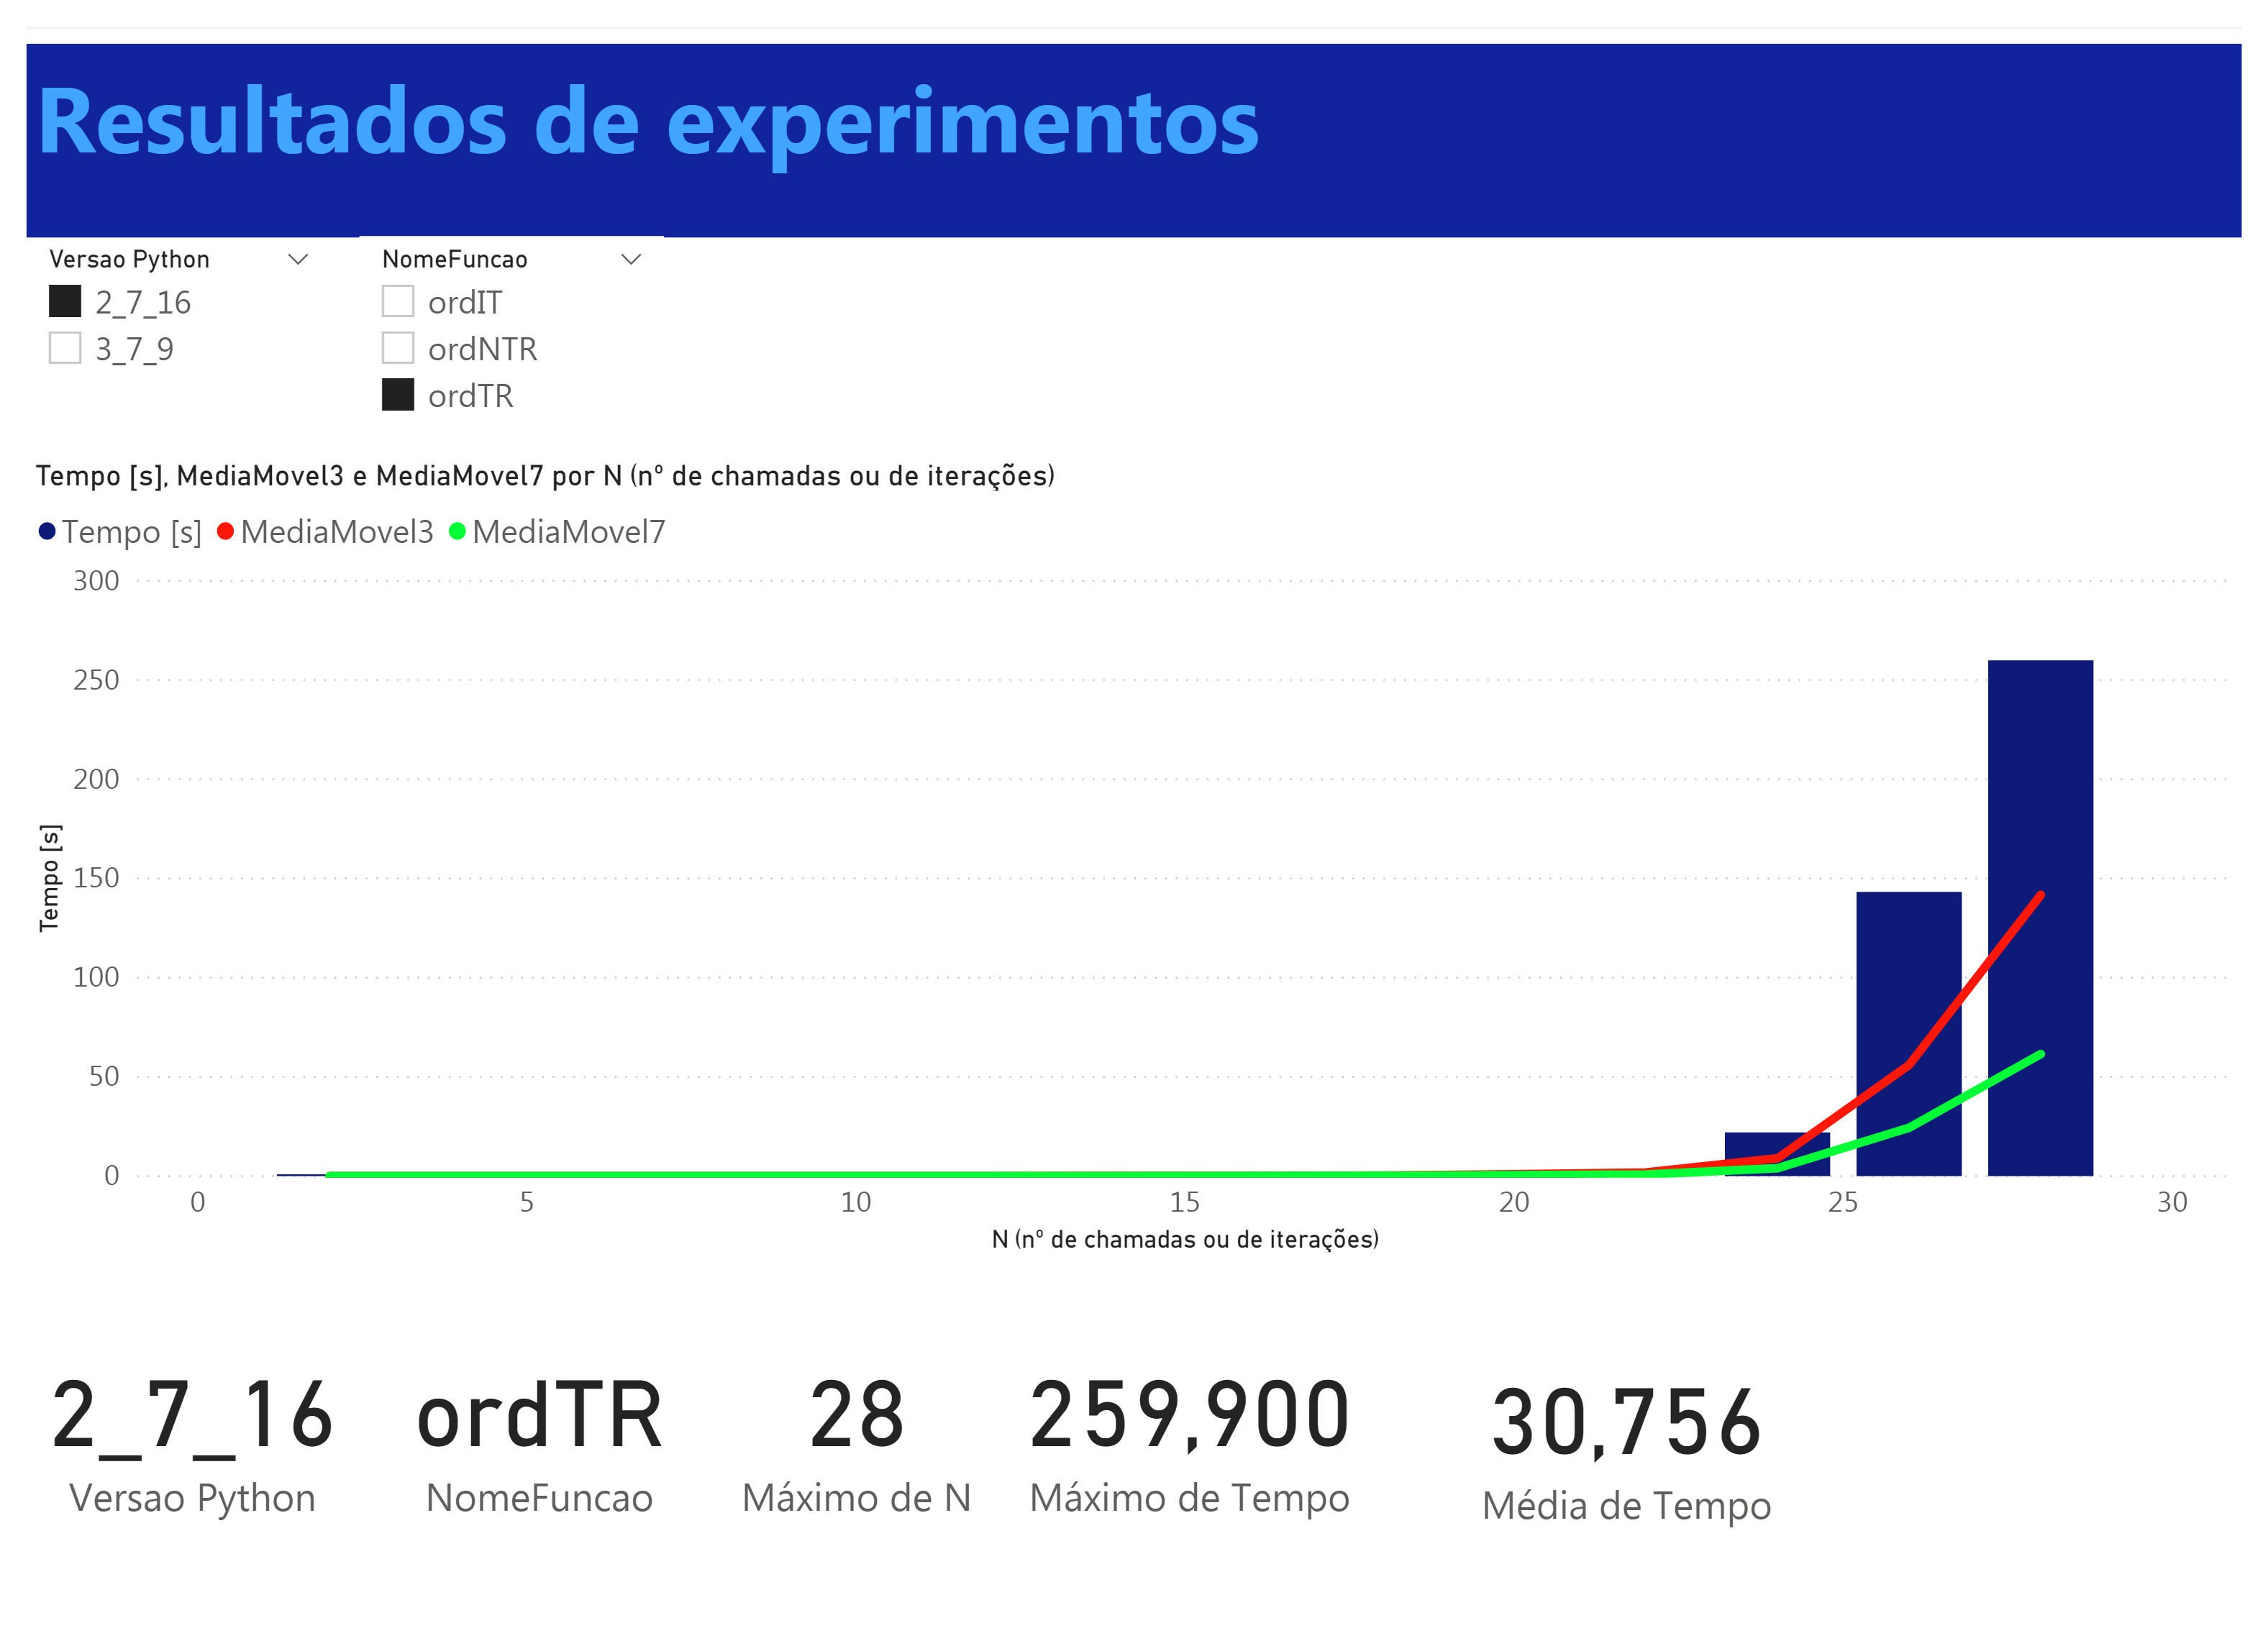

This screenshot's page, from the dashboard's own definition file:
{"tool":"powerbi","page":{"name":"Potenciação","canvas":[1280,900],"ordinal":4},"visuals":[{"type":"lineClusteredColumnComboChart","fields":{"Category":["Tabela1.N"],"Y":["Sum(Tabela1.Tempo)"],"Y2":["Tabela1.MediaMovel3","Tabela1.MediaMovel7"]},"box":[0,240,1280,464],"z":0},{"type":"card","fields":{"Values":["Max(Tabela1.Tempo)"]},"box":[640,736,208,160],"z":1000},{"type":"card","fields":{"Values":["Min(Tabela1.NomeFuncao)"]},"box":[216,744,216,144],"z":2000},{"type":"card","fields":{"Values":["Max(Tabela1.N)"]},"box":[432,736,208,160],"z":3000},{"type":"card","fields":{"Values":["Avg(Tabela1.Tempo)"]},"box":[848,752,240,128],"z":4000},{"type":"slicer","fields":{"Values":["Tabela1.Versao Python"]},"box":[0,112,176,112],"z":5000},{"type":"card","fields":{"Values":["Min(Tabela1.Versao Python)"]},"box":[24,744,192,144],"z":6000},{"type":"textbox","box":[0,0,1280,112],"z":7000},{"type":"slicer","fields":{"Values":["Tabela1.NomeFuncao"]},"box":[192,112,176,112],"z":8000}]}

Visuals, with their boxes in screenshot pixels (x1, y1, x2, y2), scaled from the page's 1280x900 canvas onto the 2268x1641 screenshot:
lineClusteredColumnComboChart - Tabela1.N x Sum(Tabela1.Tempo): select_region(0, 438, 2267, 1284)
card - Max(Tabela1.Tempo): select_region(1134, 1342, 1503, 1634)
card - Min(Tabela1.NomeFuncao): select_region(383, 1356, 765, 1619)
card - Max(Tabela1.N): select_region(765, 1342, 1134, 1634)
card - Avg(Tabela1.Tempo): select_region(1503, 1371, 1928, 1604)
slicer - Tabela1.Versao Python: select_region(0, 204, 312, 408)
card - Min(Tabela1.Versao Python): select_region(42, 1356, 383, 1619)
textbox: select_region(0, 0, 2267, 204)
slicer - Tabela1.NomeFuncao: select_region(340, 204, 652, 408)
